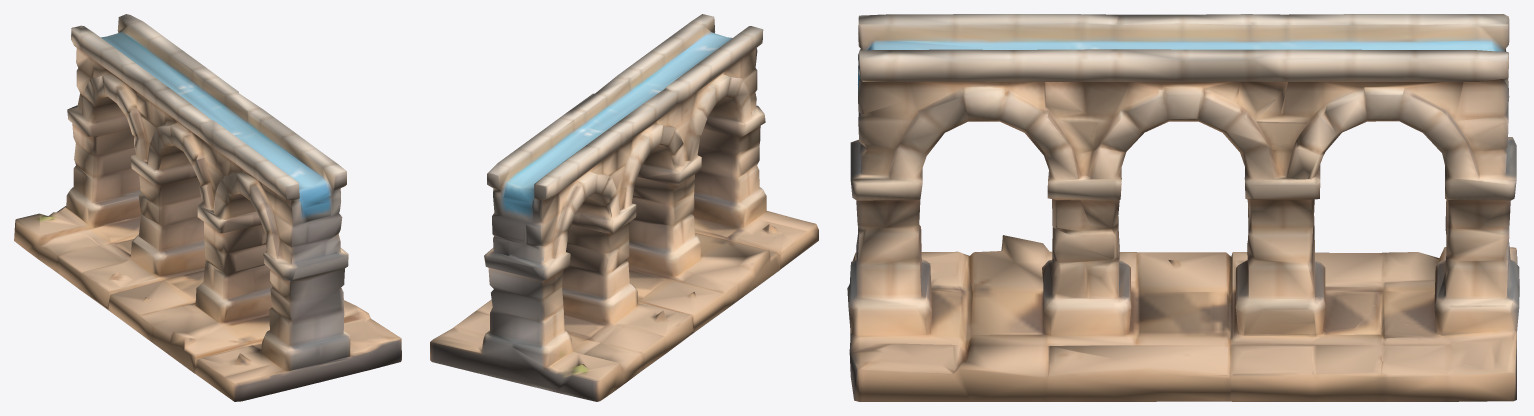
Rendered from sukemeri.glb.
The picture shows the model from 3 angles, left to right: view 1: azimuth 30°, elevation 25°; view 2: azimuth 150°, elevation 25°; view 3: azimuth 270°, elevation 25°; orthographic projection. The views are drawn at different scales.
Visible parts, largest first — view 1: node_0; view 2: node_0; view 3: node_0.
Part boxes in pixels (x1,y1,x2,y2): node_0: (14,14,401,401); node_0: (430,14,818,401); node_0: (847,14,1519,401).
Size of the model in its own units: 0.4439 by 0.5043 by 1.01.
Materials: 1 (1 with a texture image).
